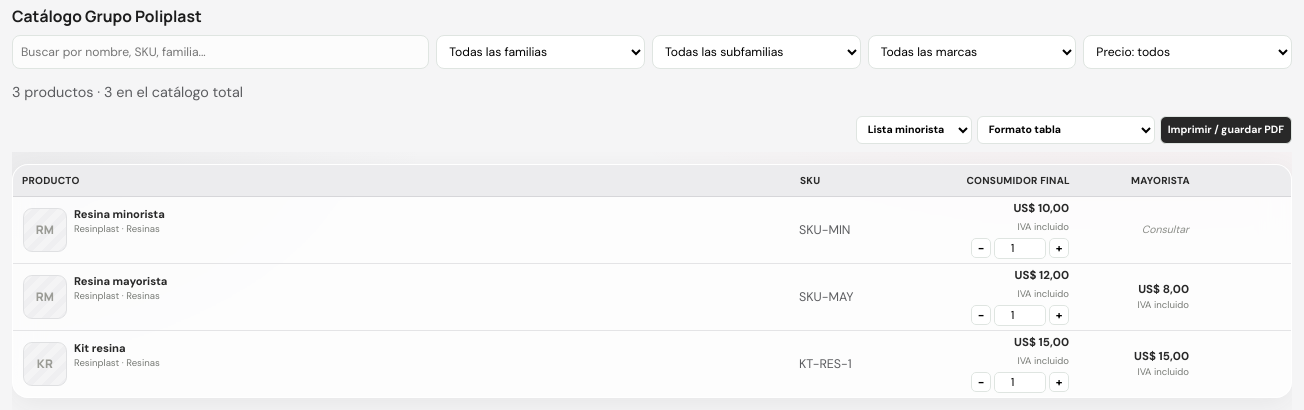
Test case: listas imprimibles del catálogo › muestra los kits (lo oculto se controla con Activo en Administración) y en mayorista deja solo variantes con precio mayorista
The width and height of the screenshot is (1304, 410).
Expected: the text "Kit resina" is shown, x1=74 y1=341 x2=126 y2=355
Select "Lista mayorista" in the dropdown named "Lista para imprimir" at [914, 130], box x1=856 y1=116 x2=972 y2=144
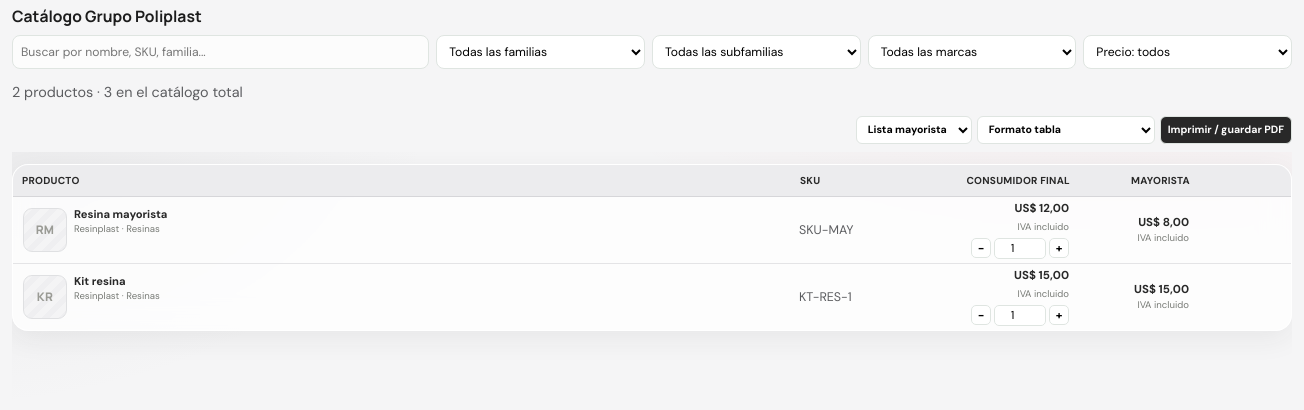
Now the text "Resina minorista" is not shown
